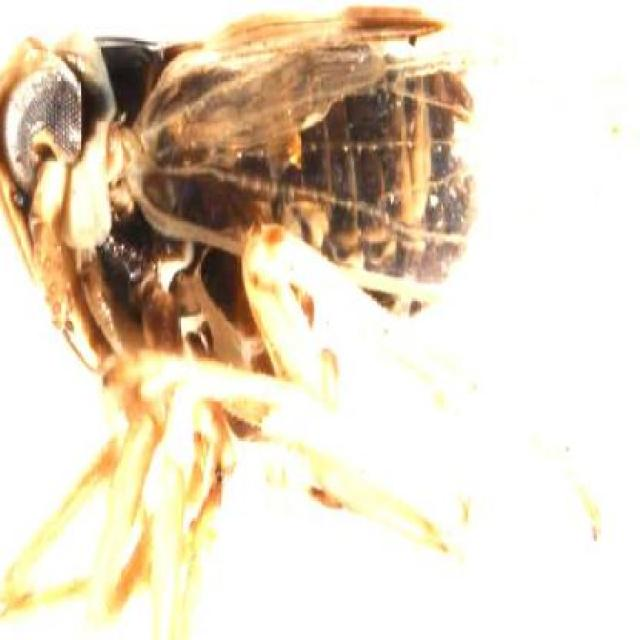brown-planthopper: (0, 17, 605, 526)
